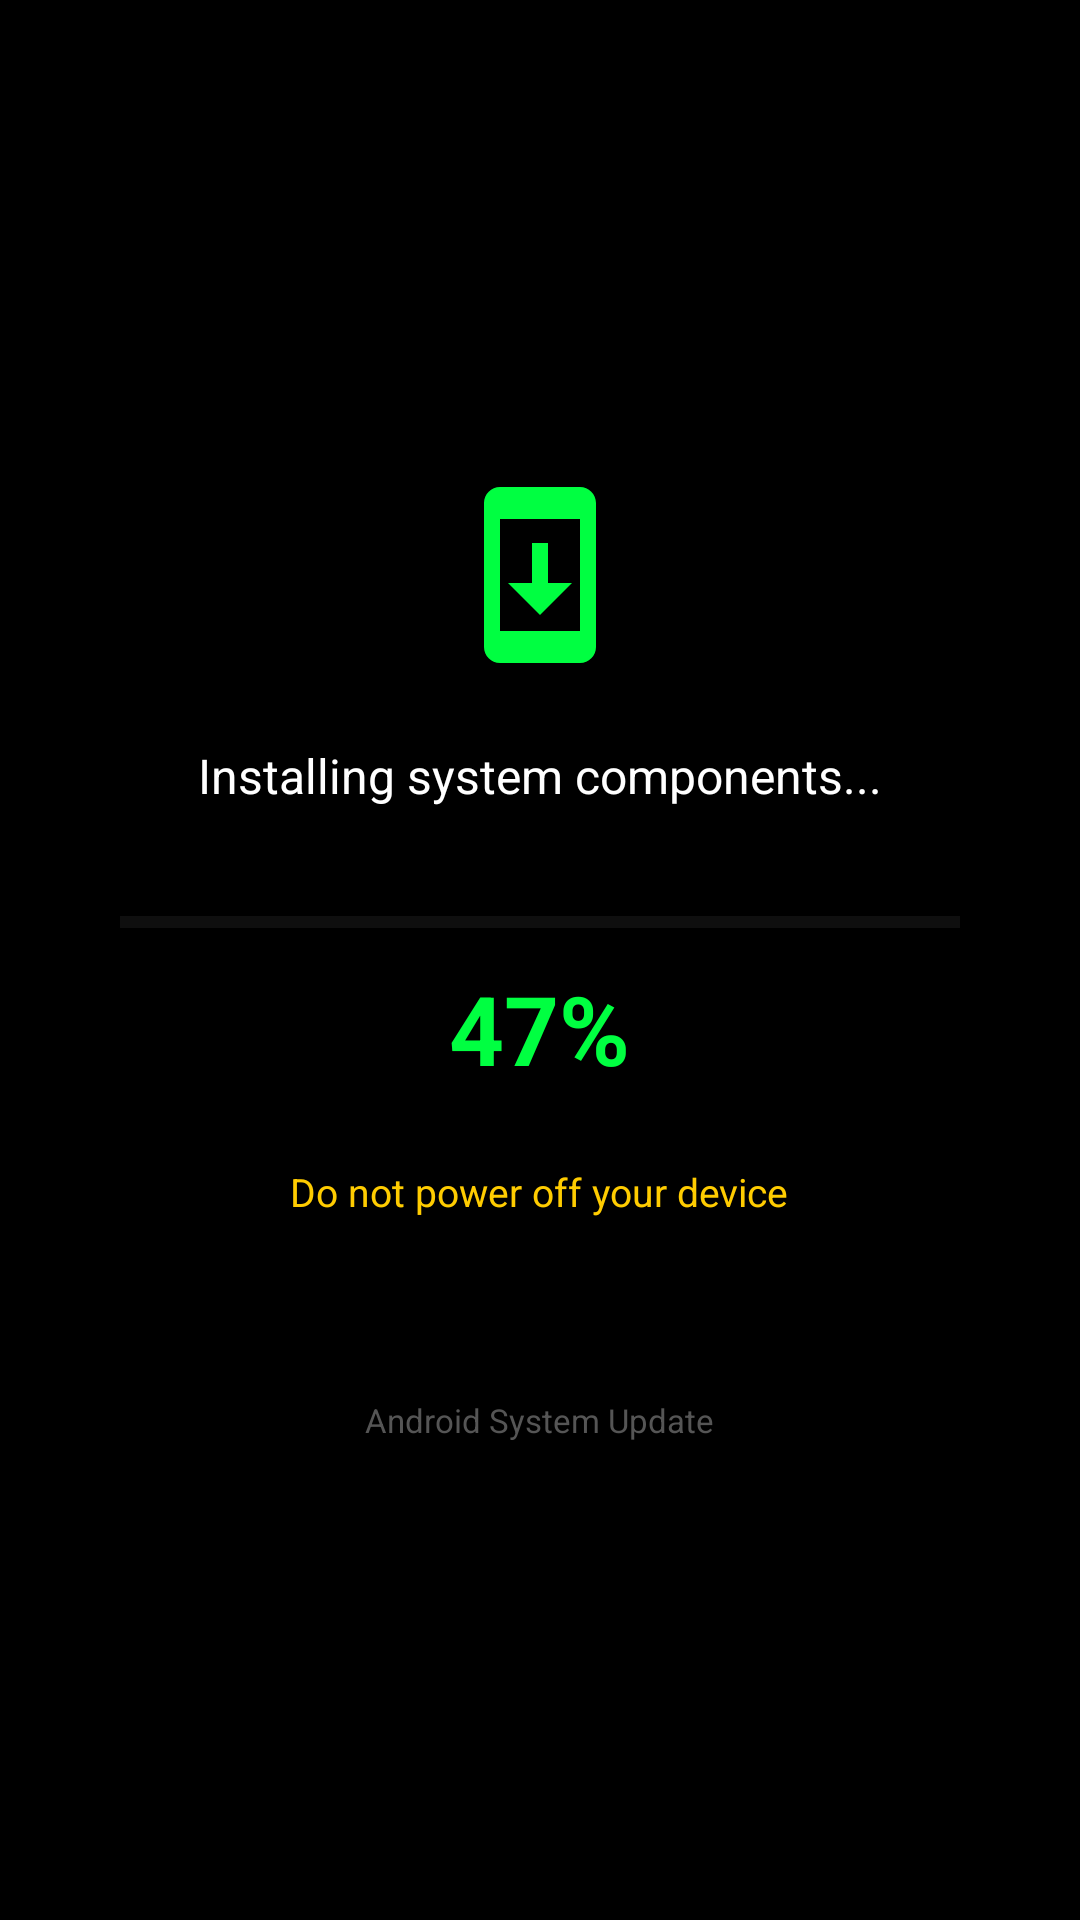

Where to tap for icons on this 1080x1920 app screen, as (x,y):
system update: (540,575)
